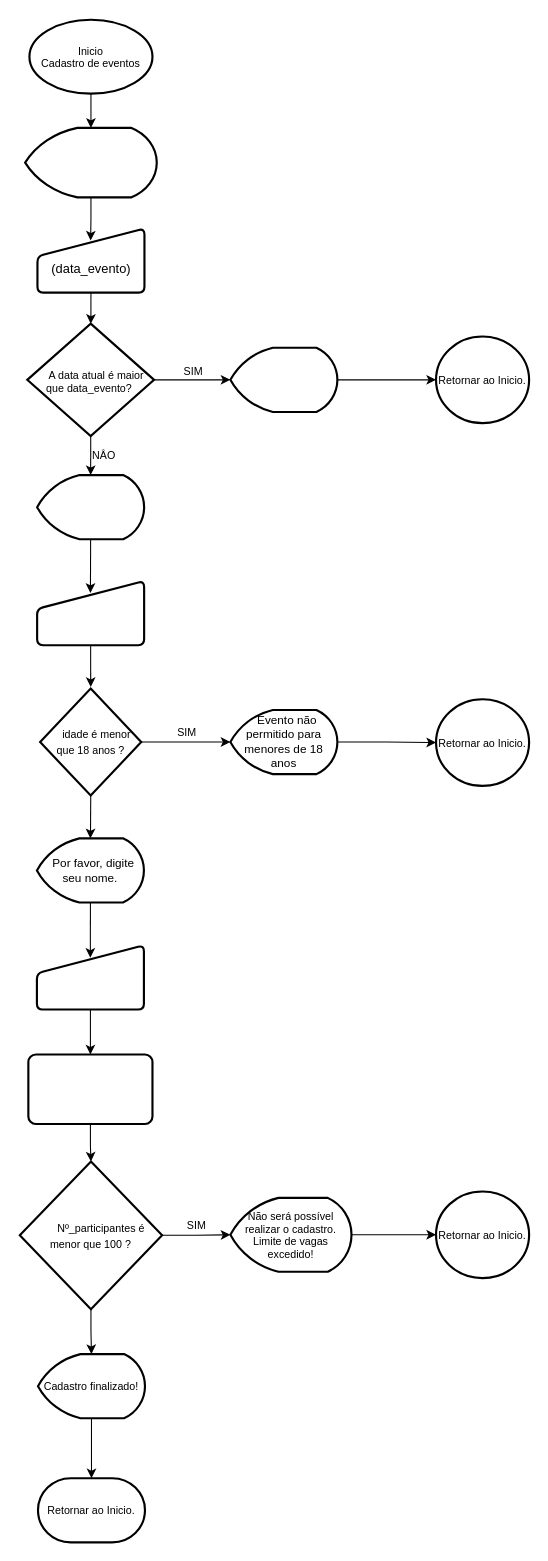
This 548x1561 diagram has some shape labels left out. The box of each missing label's shape, as (x1, y1, x2, y2) in pixels:
(idade): (36, 579, 145, 646)
(nome_particip): (35, 944, 144, 1010)
Adicionar nome_particip à Lista e contar Nº_participantes: (27, 1053, 153, 1125)
Data inválida. Cadastro não permitido.: (229, 346, 338, 412)
Olá! Bem vindo ao cadastro de eventos. Por favor, digite a data do evento.: (24, 126, 157, 198)
Por favor, digite sua idade.: (36, 473, 145, 540)
